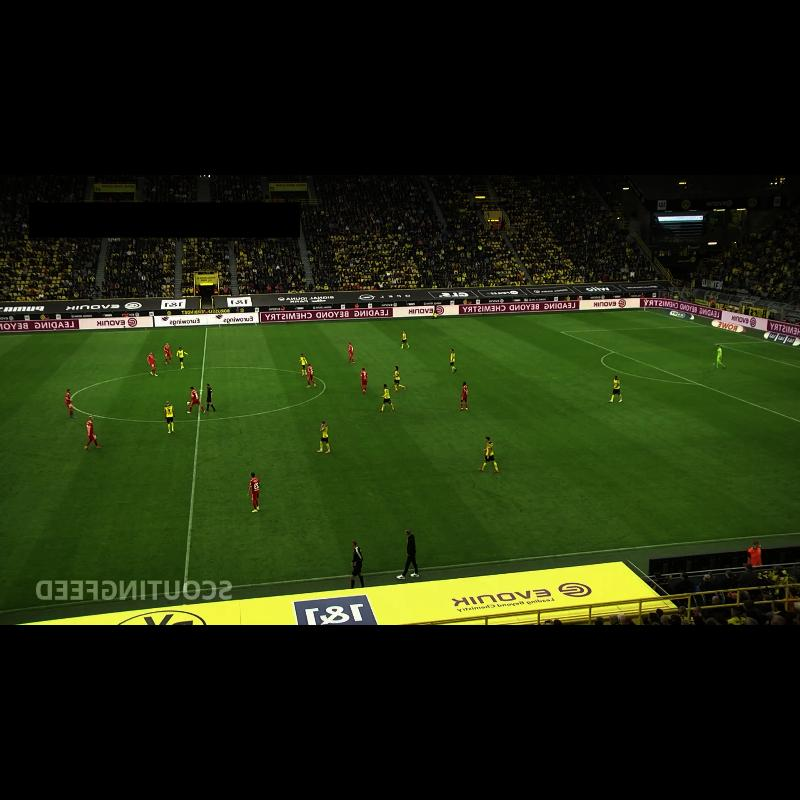cross_recipient_zone: (562, 325, 800, 421)
crossing_player_zone: (688, 432, 800, 499), (446, 310, 705, 335)
pitch: (0, 311, 800, 612)
